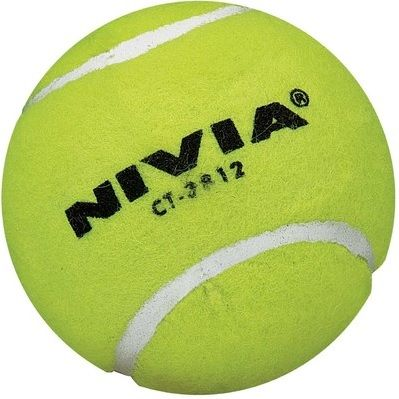tennis_ball: (2, 1, 396, 399)
